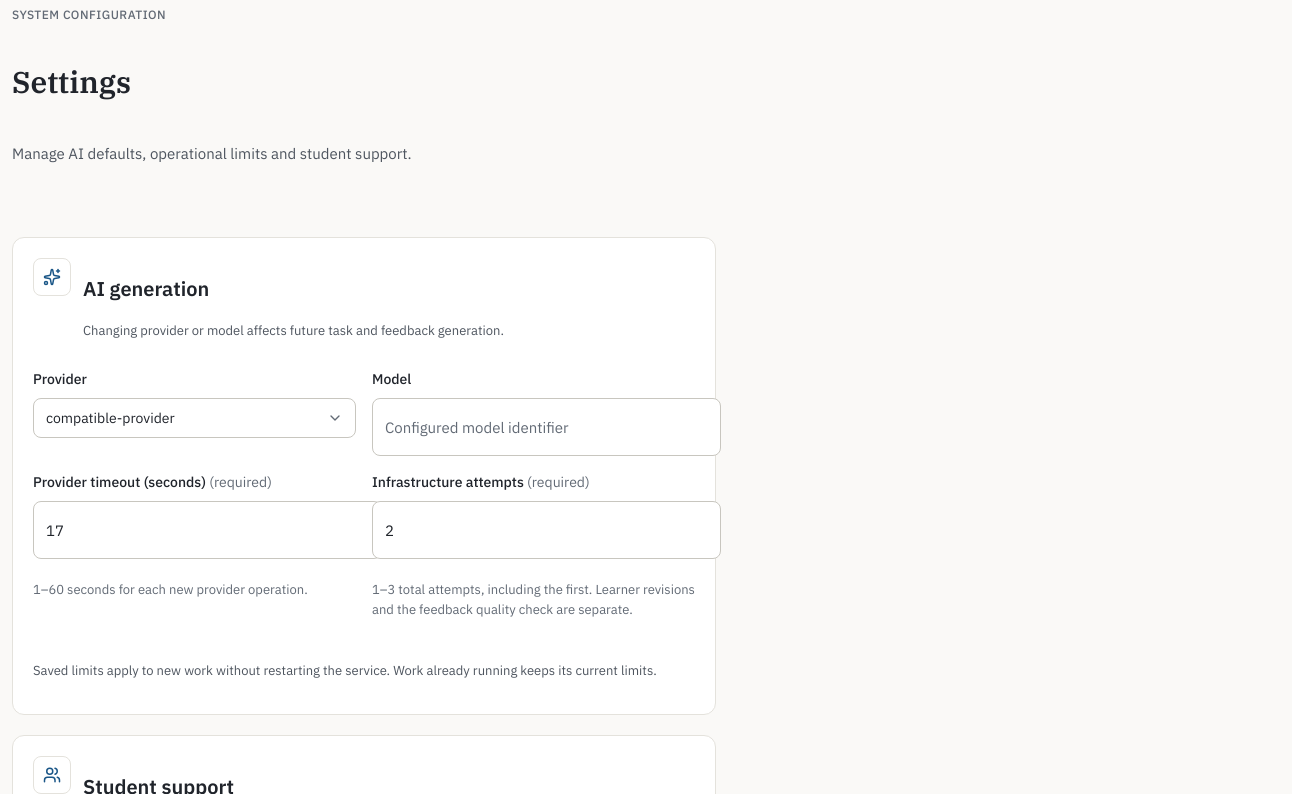
it: shows fetched limits and accessible bounds, preserves unknown provider and saves only edits
Expected: the number field labelled "Infrastructure attempts (required)" holds "2", [372,501,721,559]
Expected: the dropdown labelled "provider" reads "compatible-provider", [33,398,356,438]
Replace the text in the number field labelled "Provider timeout (seconds) (required)" with "9" at (208, 530), box [33,501,382,559]
(page scrolled)
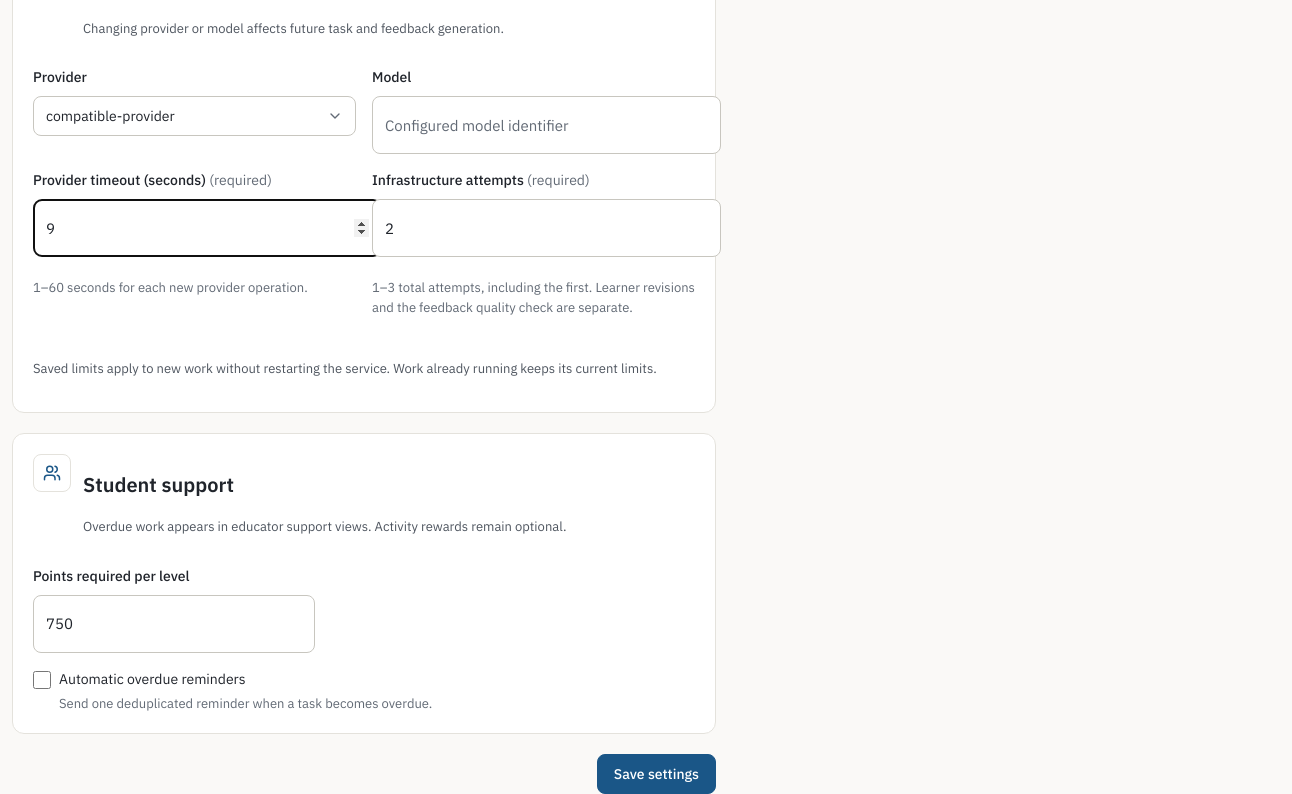
Click the button "Save settings".
click(656, 774)  # box [597,754,716,793]
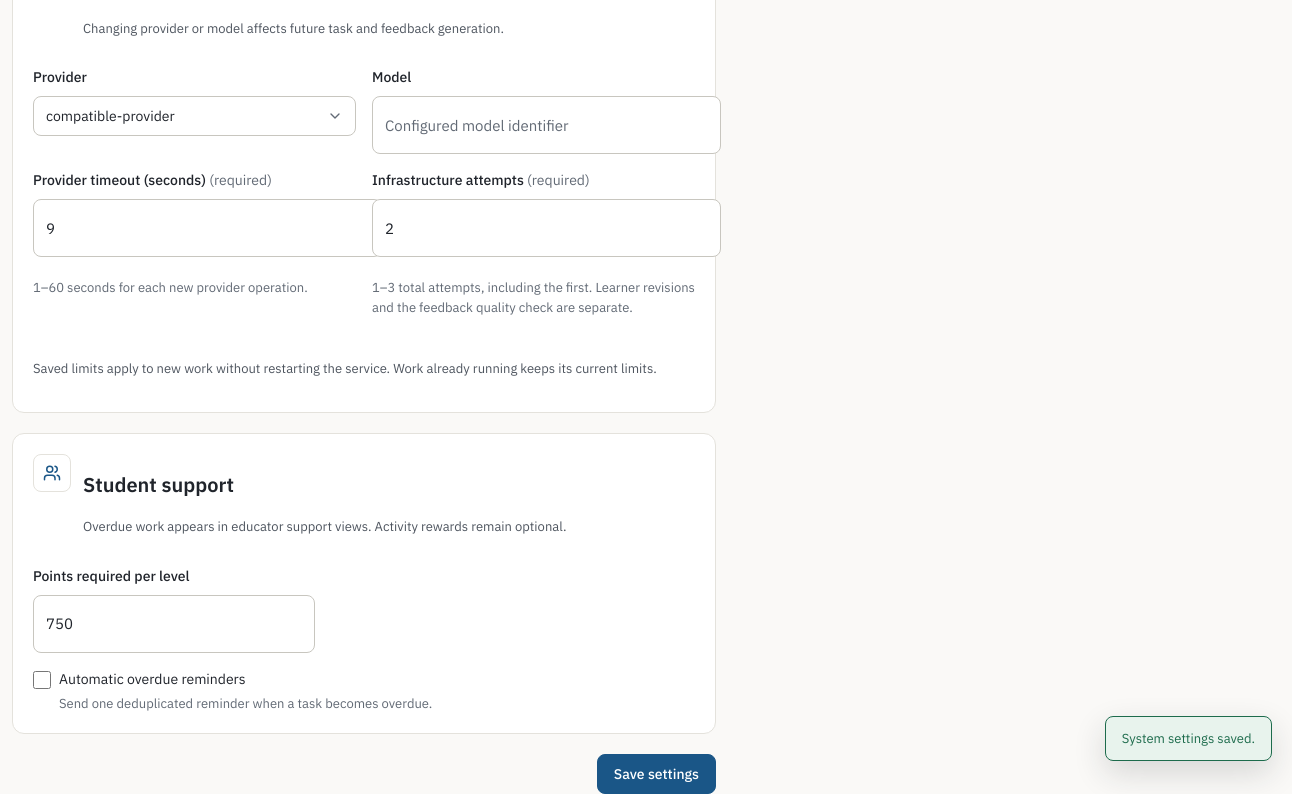
Expected: the number field labelled "Infrastructure attempts (required)" holds "2", [372,199,721,257]
Now the message reads "System settings saved.", box [1122,730,1255,746]
